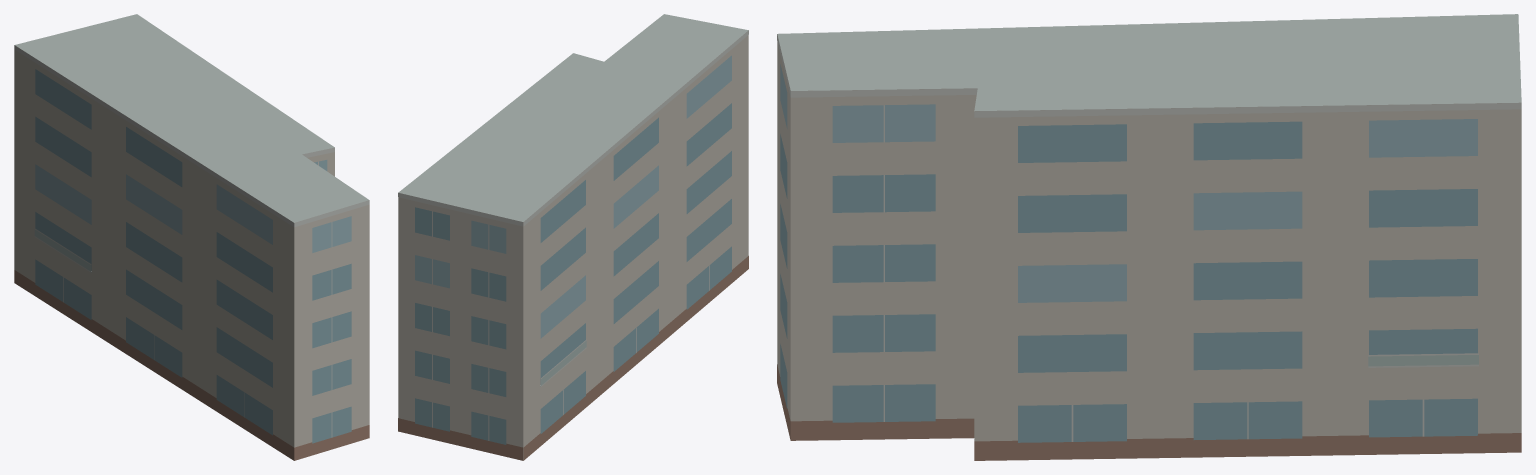
Rendered from survey-upis-32640910.glb.
The picture shows the model from 3 angles, left to right: view 1: azimuth 30°, elevation 25°; view 2: azimuth 150°, elevation 25°; view 3: azimuth 270°, elevation 25°; orthographic projection. The views are drawn at different scales.
Visible parts, largest first — view 1: survey-upis-32640910.tmp; view 2: survey-upis-32640910.tmp; view 3: survey-upis-32640910.tmp.
Boxes of the visible parts, bbox=[...] form: survey-upis-32640910.tmp: bbox=[14, 14, 369, 460]; survey-upis-32640910.tmp: bbox=[398, 14, 748, 460]; survey-upis-32640910.tmp: bbox=[777, 14, 1521, 460].
Size of the model in its own units: 7.72 by 12.95 by 24.99.
